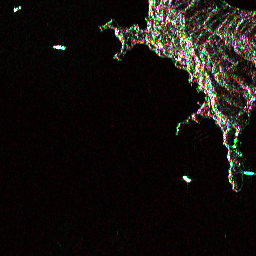ship: (52, 43, 67, 53), (180, 173, 192, 185), (11, 3, 24, 14)
